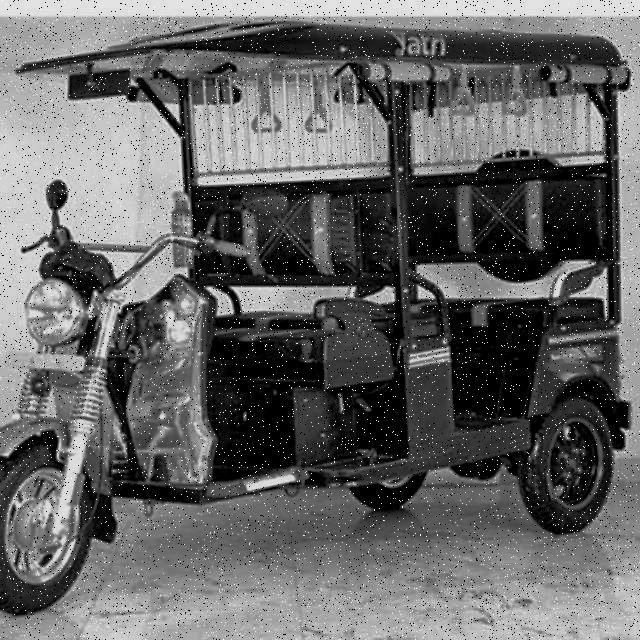Toto: (0, 21, 625, 623)
